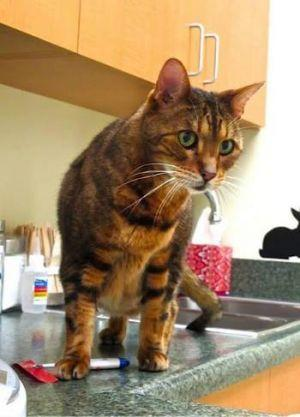bengal: (133, 50, 270, 208)
